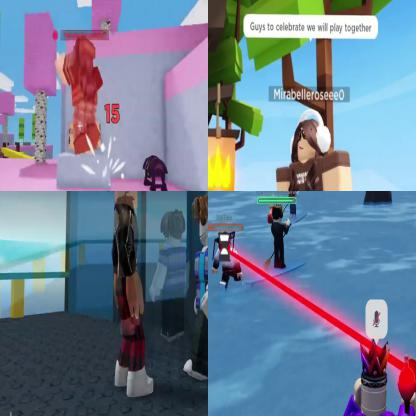Roblox-Avatar: (108, 192, 156, 400), (275, 109, 355, 191), (339, 338, 416, 416), (57, 36, 105, 157), (184, 194, 208, 384), (272, 205, 291, 270)
